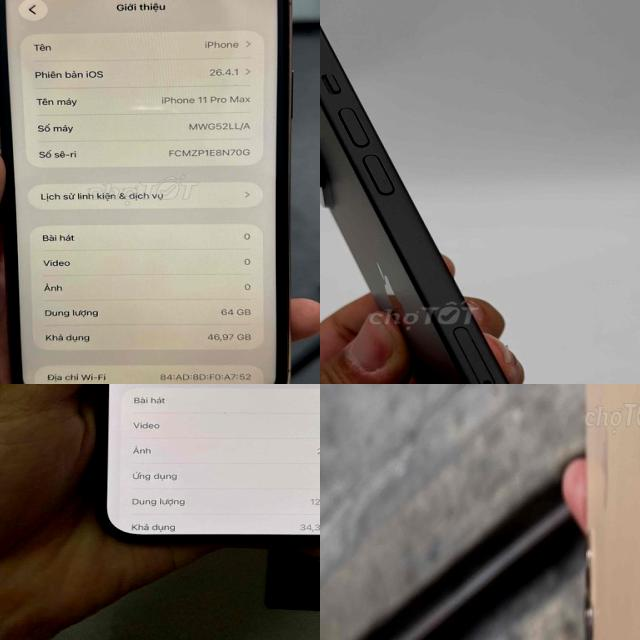gen_11: (0, 0, 300, 384), (573, 384, 640, 640)
gen_12_13: (76, 384, 320, 562)
gen_15: (320, 0, 620, 384)
